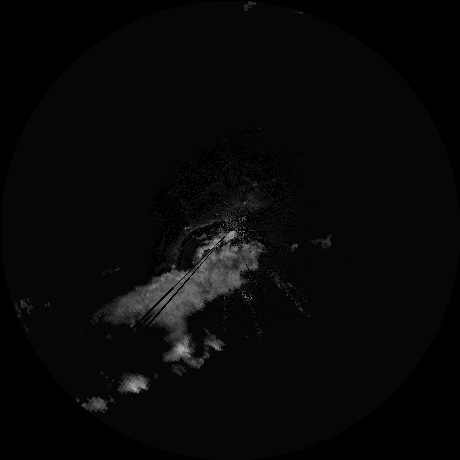frontgust: (170, 218, 225, 255)
